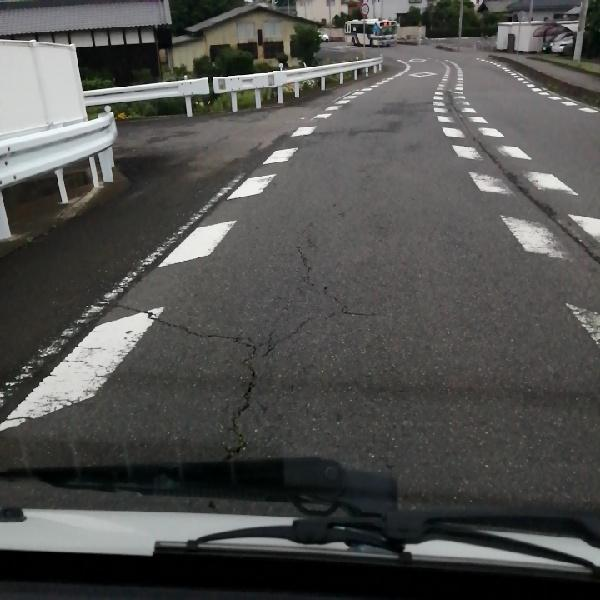D00: (260, 221, 367, 324), (223, 340, 263, 465)
D10: (112, 298, 243, 347)
D44: (2, 141, 259, 429)
